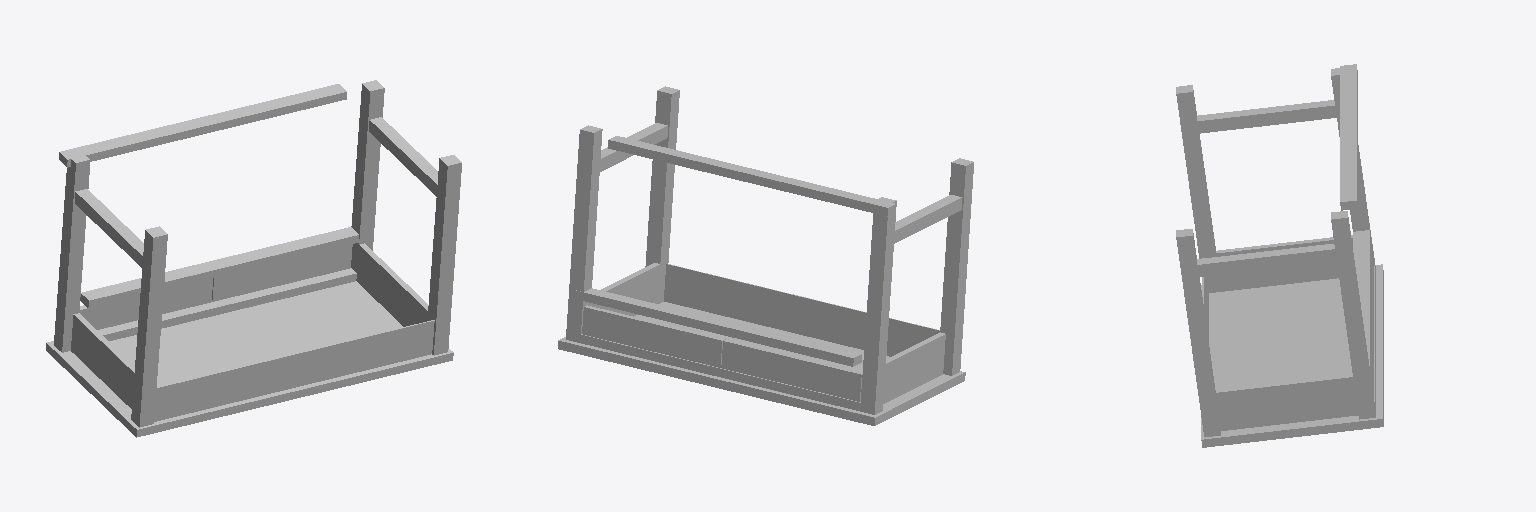
The model's file is tablet.obj.
3 renders of one model, left to right at view 1: azimuth 30°, elevation 25°; view 2: azimuth 150°, elevation 25°; view 3: azimuth 270°, elevation 25°, orthographic.
Visible parts, largest first — view 1: group_3.001_ID46, group_10.001_ID123, group_9.001_ID112, group_0.001_ID6, group_8.001_ID101, group_4.001_ID57, group_1.001_ID24, group_2.001_ID35, group_12.001_ID145, group_7.001_ID90, group_5.001_ID68, group_6.001_ID79 (+3 smaller); view 2: group_10.001_ID123, group_3.001_ID46, group_1.001_ID24, group_2.001_ID35, group_0.001_ID6, group_12.001_ID145, group_11.001_ID134, group_9.001_ID112, group_8.001_ID101, group_4.001_ID57, group_7.001_ID90, group_6.001_ID79 (+3 smaller); view 3: group_3.001_ID46, group_5.001_ID68, group_2.001_ID35, group_4.001_ID57, group_0.001_ID6, group_6.001_ID79, group_9.001_ID112, group_14.001_ID167, group_13.001_ID156, group_8.001_ID101, group_1.001_ID24.
Boxes of the visible parts, x1=… form: group_3.001_ID46: x1=46, y1=281, x2=453, y2=437; group_10.001_ID123: x1=154, y1=320, x2=434, y2=421; group_9.001_ID112: x1=59, y1=84, x2=346, y2=167; group_0.001_ID6: x1=131, y1=226, x2=167, y2=427; group_8.001_ID101: x1=80, y1=227, x2=358, y2=308; group_4.001_ID57: x1=427, y1=155, x2=461, y2=355; group_1.001_ID24: x1=54, y1=152, x2=90, y2=352; group_2.001_ID35: x1=351, y1=80, x2=384, y2=272; group_12.001_ID145: x1=212, y1=244, x2=352, y2=301; group_7.001_ID90: x1=97, y1=268, x2=356, y2=340; group_5.001_ID68: x1=356, y1=243, x2=428, y2=326; group_6.001_ID79: x1=71, y1=313, x2=134, y2=408; group_10.001_ID123: x1=664, y1=264, x2=939, y2=356; group_3.001_ID46: x1=558, y1=302, x2=965, y2=425; group_1.001_ID24: x1=860, y1=197, x2=896, y2=414; group_2.001_ID35: x1=566, y1=125, x2=602, y2=342; group_0.001_ID6: x1=940, y1=158, x2=973, y2=375; group_12.001_ID145: x1=582, y1=305, x2=725, y2=367; group_11.001_ID134: x1=721, y1=339, x2=862, y2=401; group_9.001_ID112: x1=608, y1=136, x2=895, y2=216; group_8.001_ID101: x1=573, y1=288, x2=861, y2=366; group_4.001_ID57: x1=645, y1=86, x2=679, y2=303; group_7.001_ID90: x1=580, y1=334, x2=860, y2=410; group_6.001_ID79: x1=883, y1=332, x2=945, y2=403; group_3.001_ID46: x1=1201, y1=264, x2=1383, y2=447; group_5.001_ID68: x1=1216, y1=374, x2=1357, y2=430; group_2.001_ID35: x1=1331, y1=211, x2=1375, y2=419; group_4.001_ID57: x1=1176, y1=229, x2=1220, y2=436; group_0.001_ID6: x1=1176, y1=85, x2=1220, y2=292; group_6.001_ID79: x1=1216, y1=235, x2=1352, y2=291; group_9.001_ID112: x1=1340, y1=64, x2=1357, y2=210; group_14.001_ID167: x1=1197, y1=100, x2=1336, y2=133; group_13.001_ID156: x1=1197, y1=244, x2=1336, y2=276; group_8.001_ID101: x1=1353, y1=230, x2=1370, y2=374; group_1.001_ID24: x1=1331, y1=67, x2=1375, y2=272.
Size of the model in its own units: 0.3821 by 0.2644 by 0.2169.